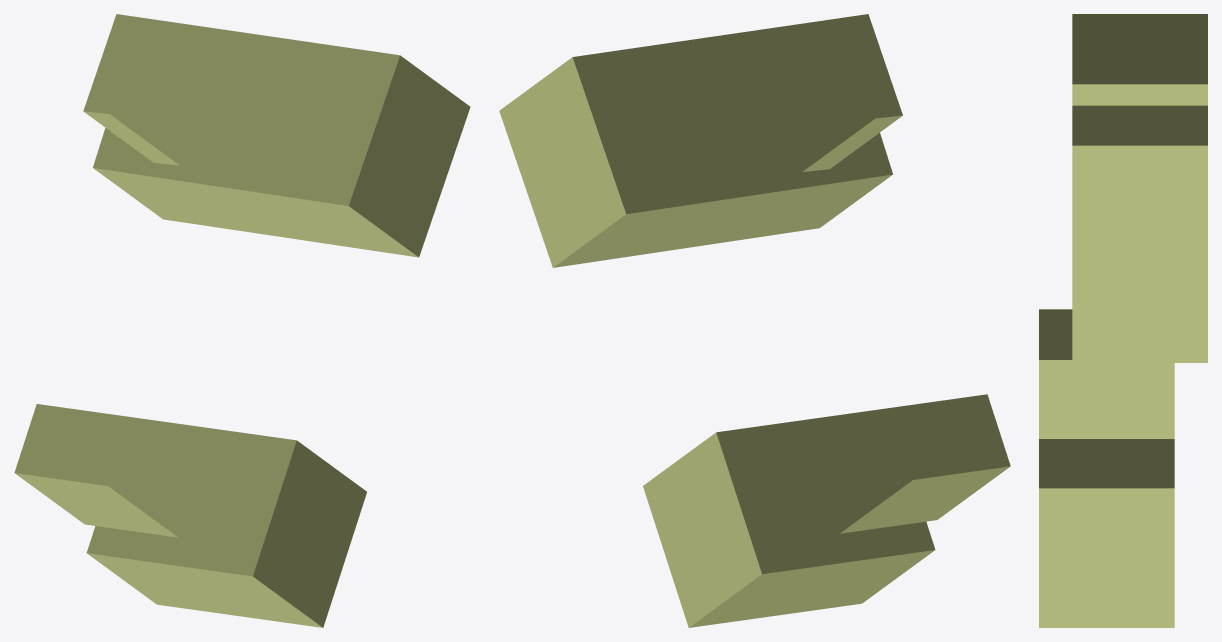
The picture shows the model from 3 angles, left to right: view 1: azimuth 30°, elevation 25°; view 2: azimuth 150°, elevation 25°; view 3: azimuth 270°, elevation 25°; orthographic projection. The views are drawn at different scales.
Parts seen in each view (by area): view 1: 0_0_1_3_1_2_0_2; view 2: 0_0_1_3_1_2_0_2; view 3: 0_0_1_3_1_2_0_2.
Part boxes in pixels (x1,y1,x2,y2): 0_0_1_3_1_2_0_2: (14, 14, 470, 627); 0_0_1_3_1_2_0_2: (499, 14, 1010, 627); 0_0_1_3_1_2_0_2: (1039, 14, 1207, 627).
Bounding box in the file's own units: 29.76 × 40.85 × 11.2.
